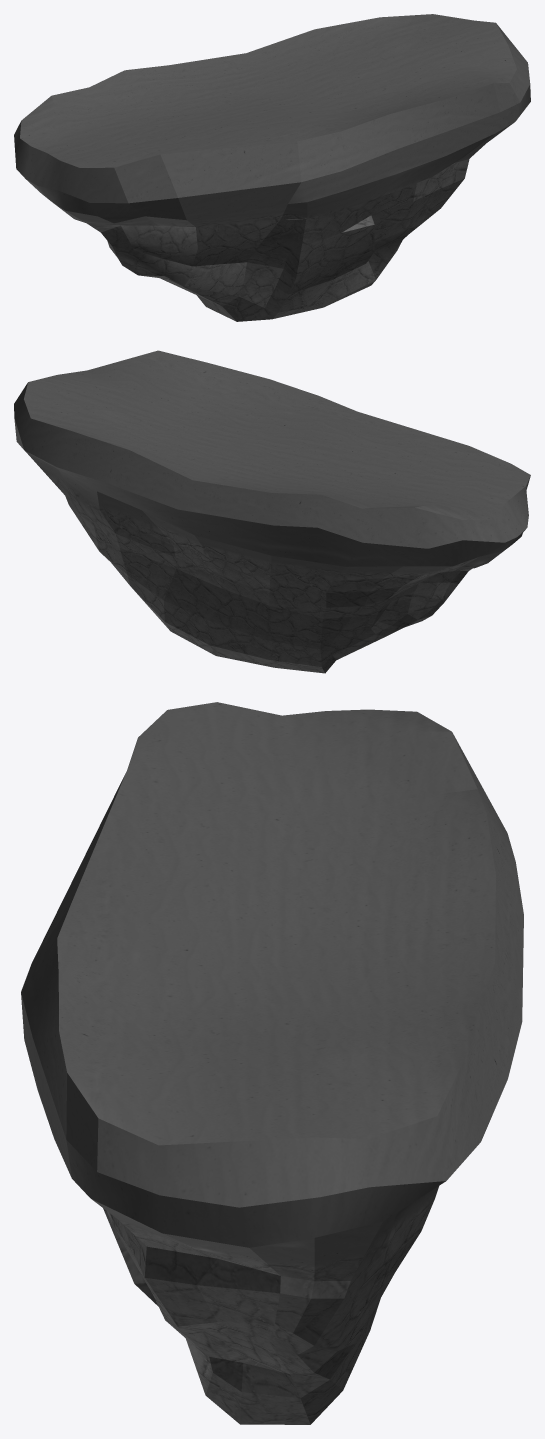
Rendered from m_island_medium_2.fbx.
The picture shows the model from 3 angles, top to bottom: view 1: azimuth 30°, elevation 25°; view 2: azimuth 150°, elevation 25°; view 3: azimuth 270°, elevation 25°; orthographic projection. The views are drawn at different scales.
Parts seen in each view (by area): view 1: Island4; view 2: Island4; view 3: Island4.
Part boxes in pixels (left/top/right/bottom): Island4: left=14, top=14, right=530, bottom=321; Island4: left=14, top=350, right=530, bottom=673; Island4: left=21, top=702, right=523, bottom=1424.
Bounding box in the file's own units: 39.48 × 17.57 × 17.67.
